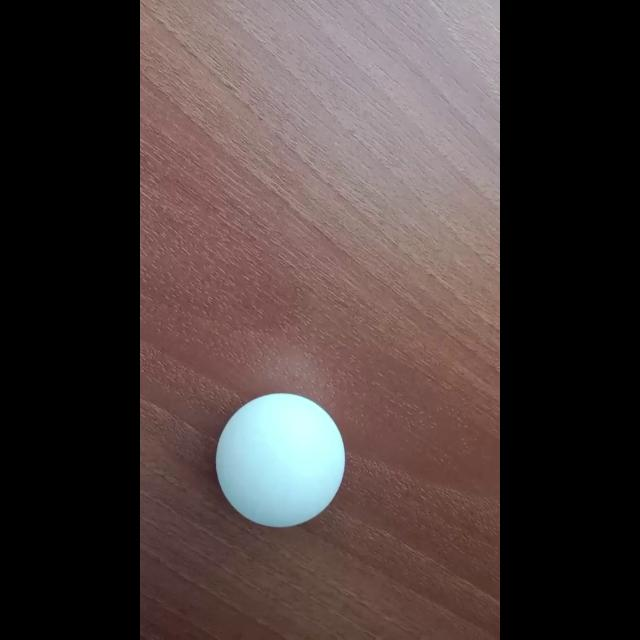white ball: (214, 392, 346, 528)
